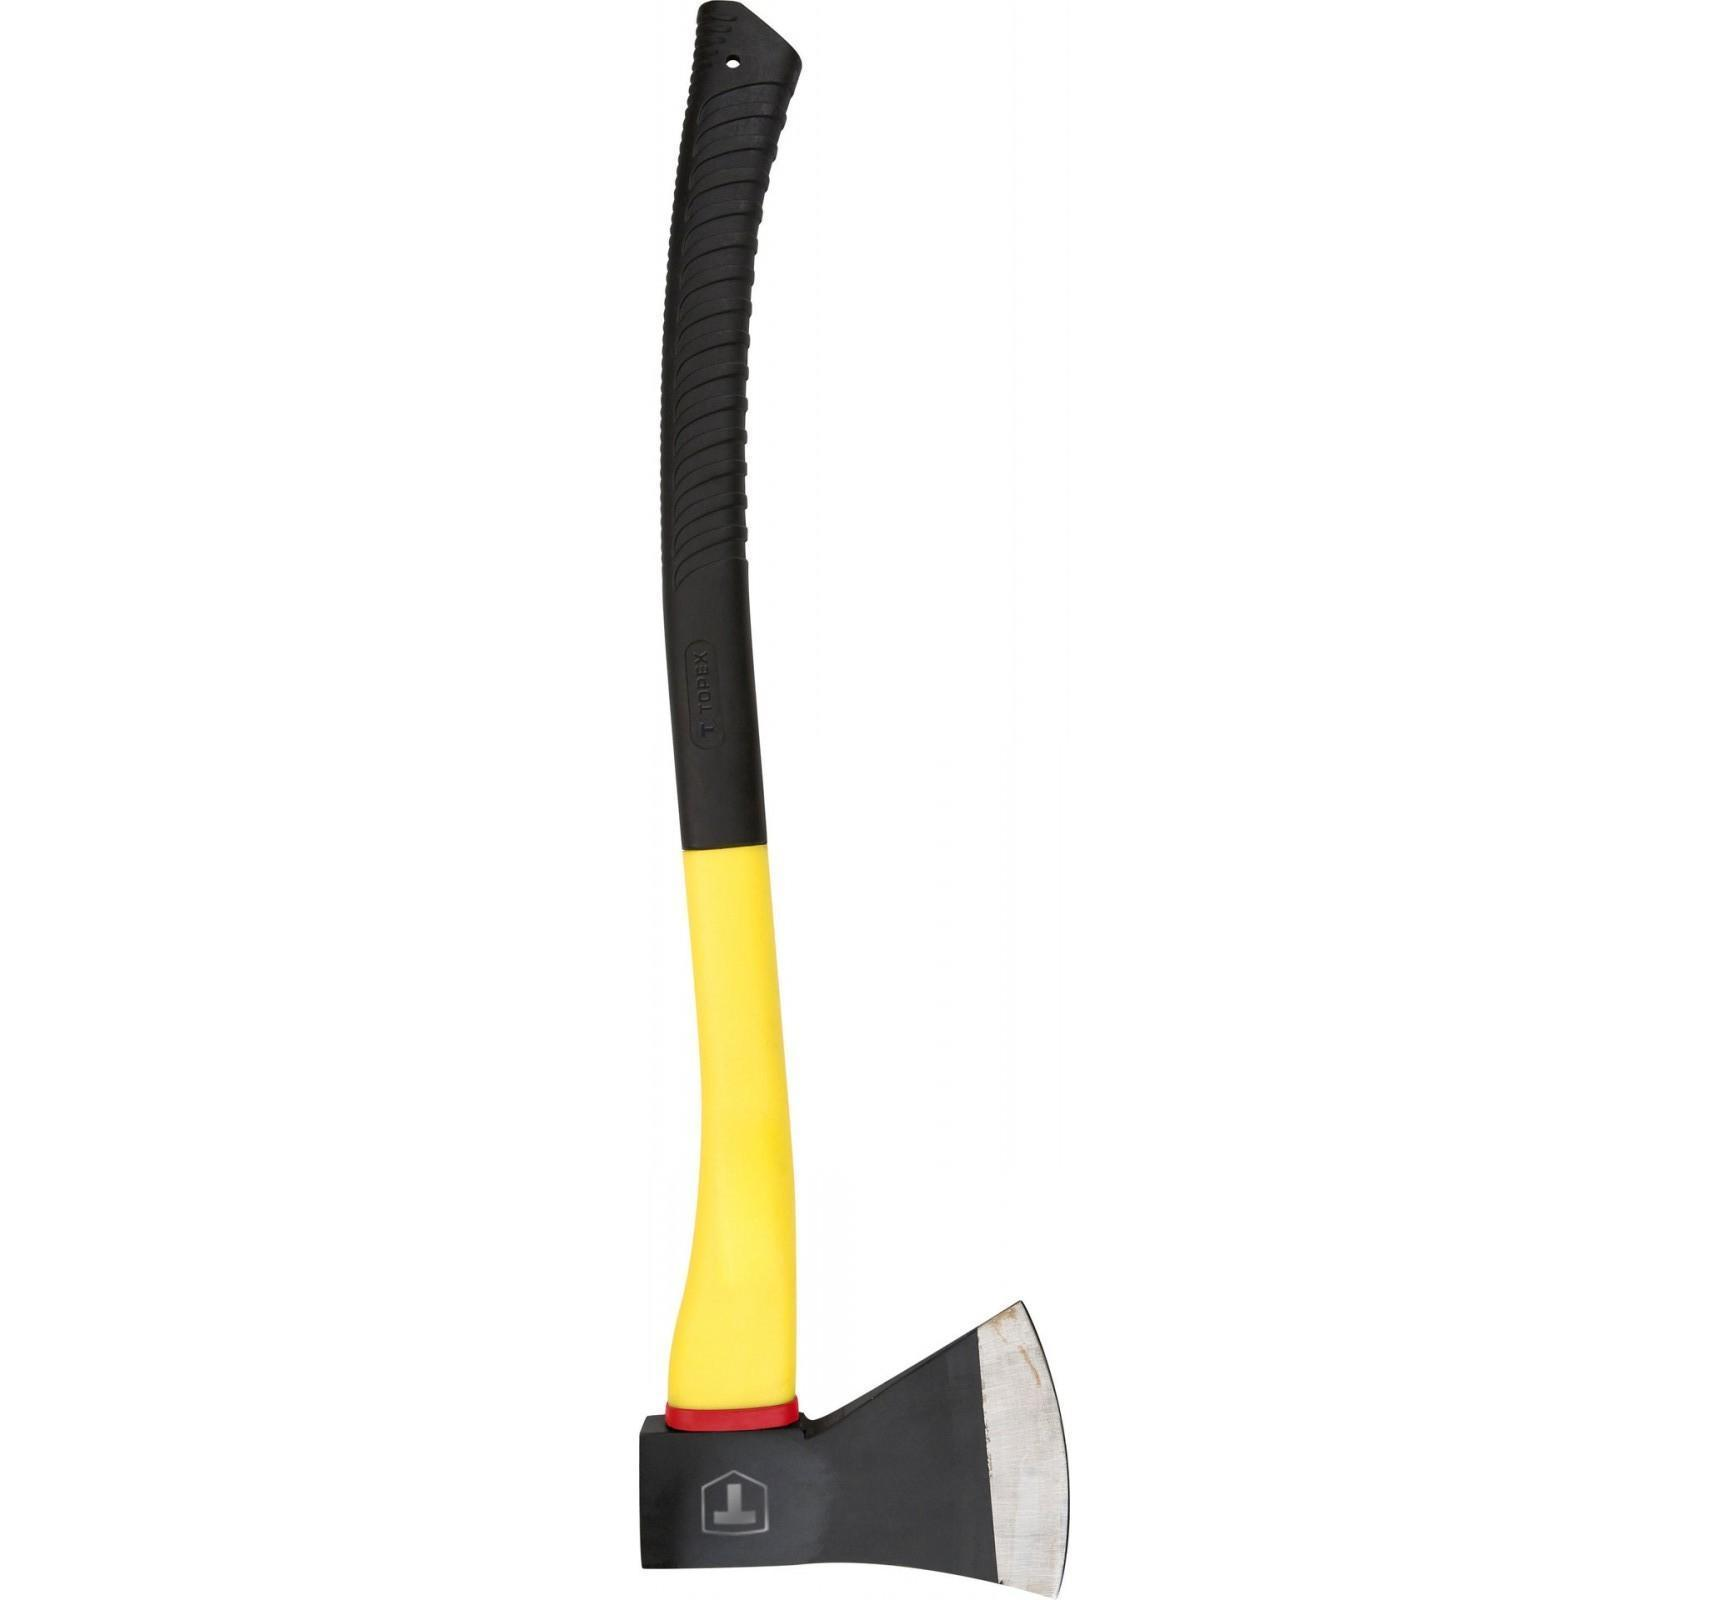machado: (641, 0, 1066, 1595)
